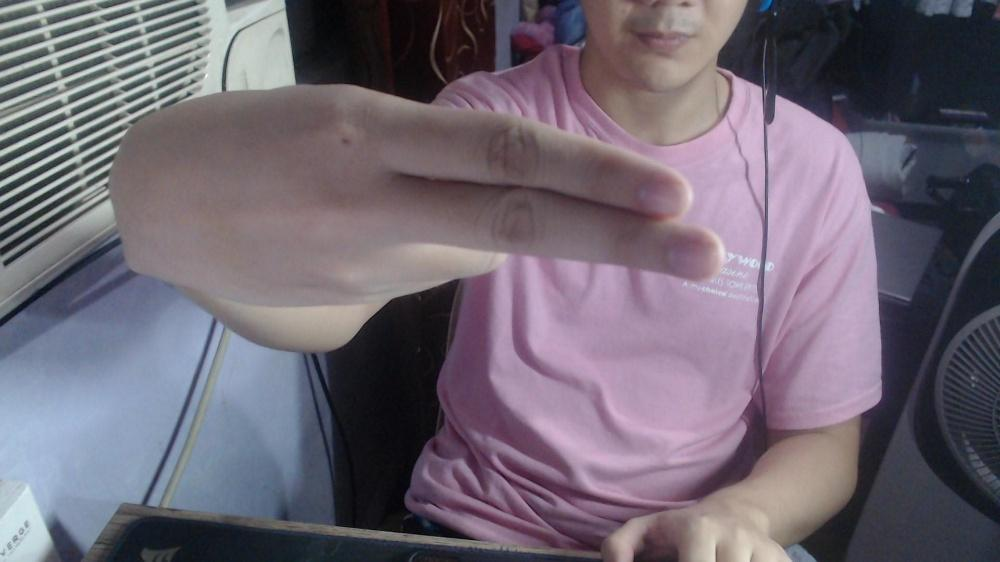h: (107, 76, 729, 356)
